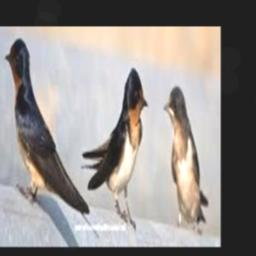Swallow: (4, 38, 90, 214), (81, 68, 148, 228), (164, 87, 208, 226)
